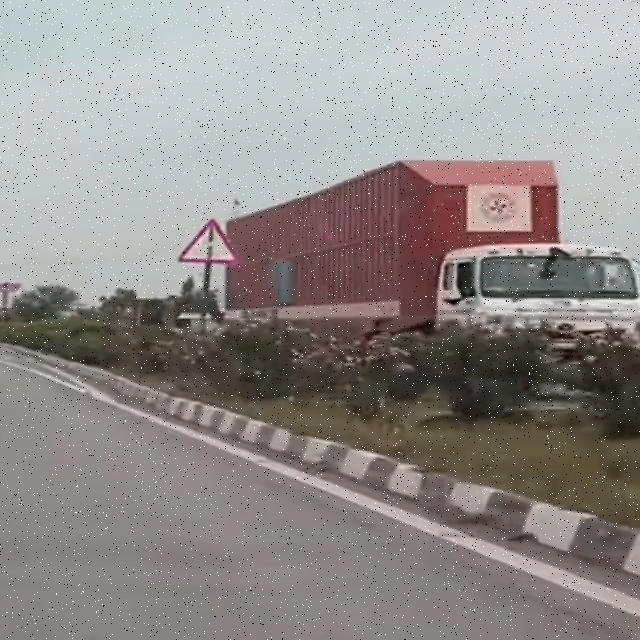gap_in_median: (166, 221, 254, 278)
